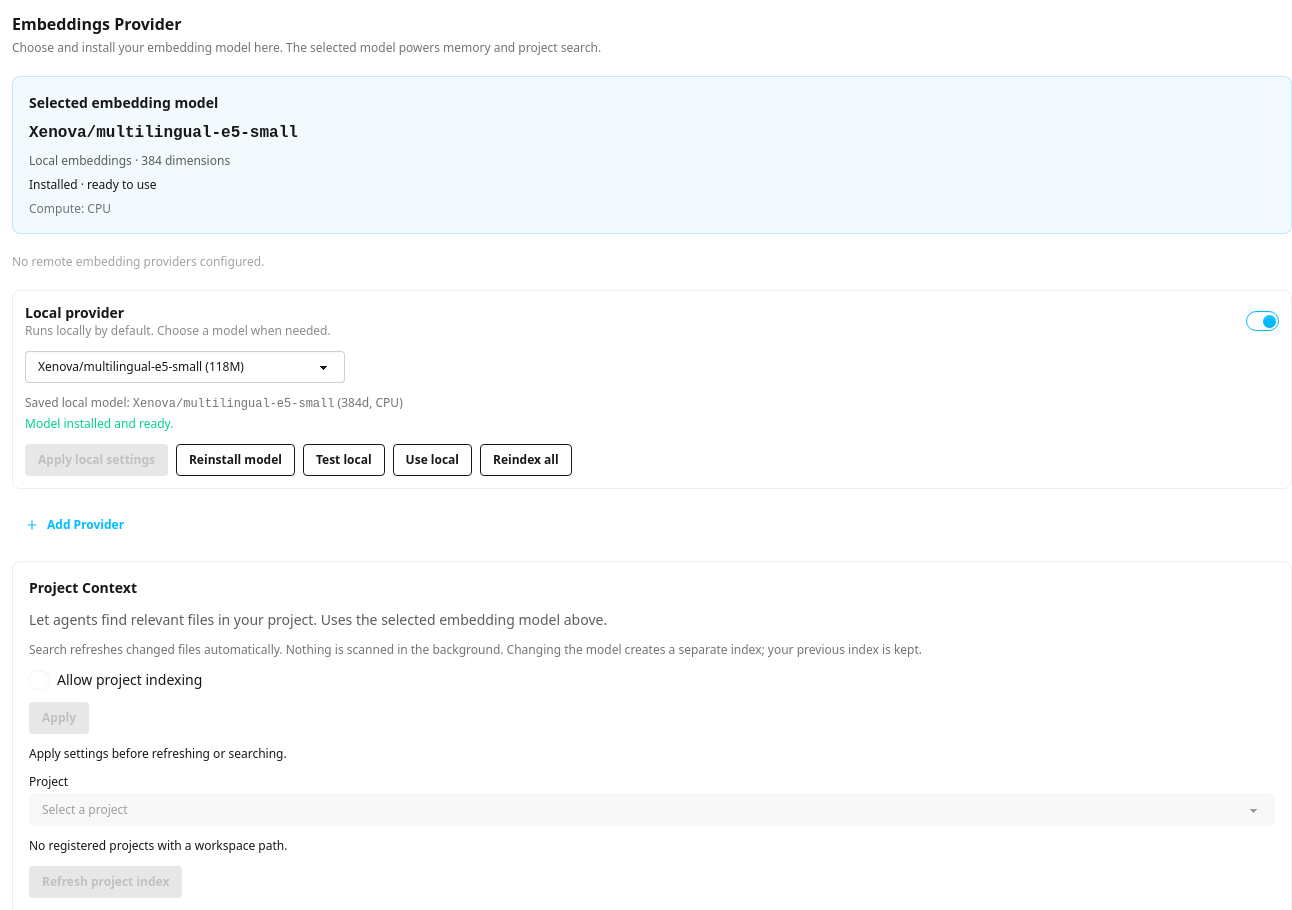
Test case: EmbeddingsPanel › can disable local embeddings
The image size is (1292, 910).
Click the checkbox with test id "embedding-local-enabled" at (1262, 321), box [1246,311,1279,331]
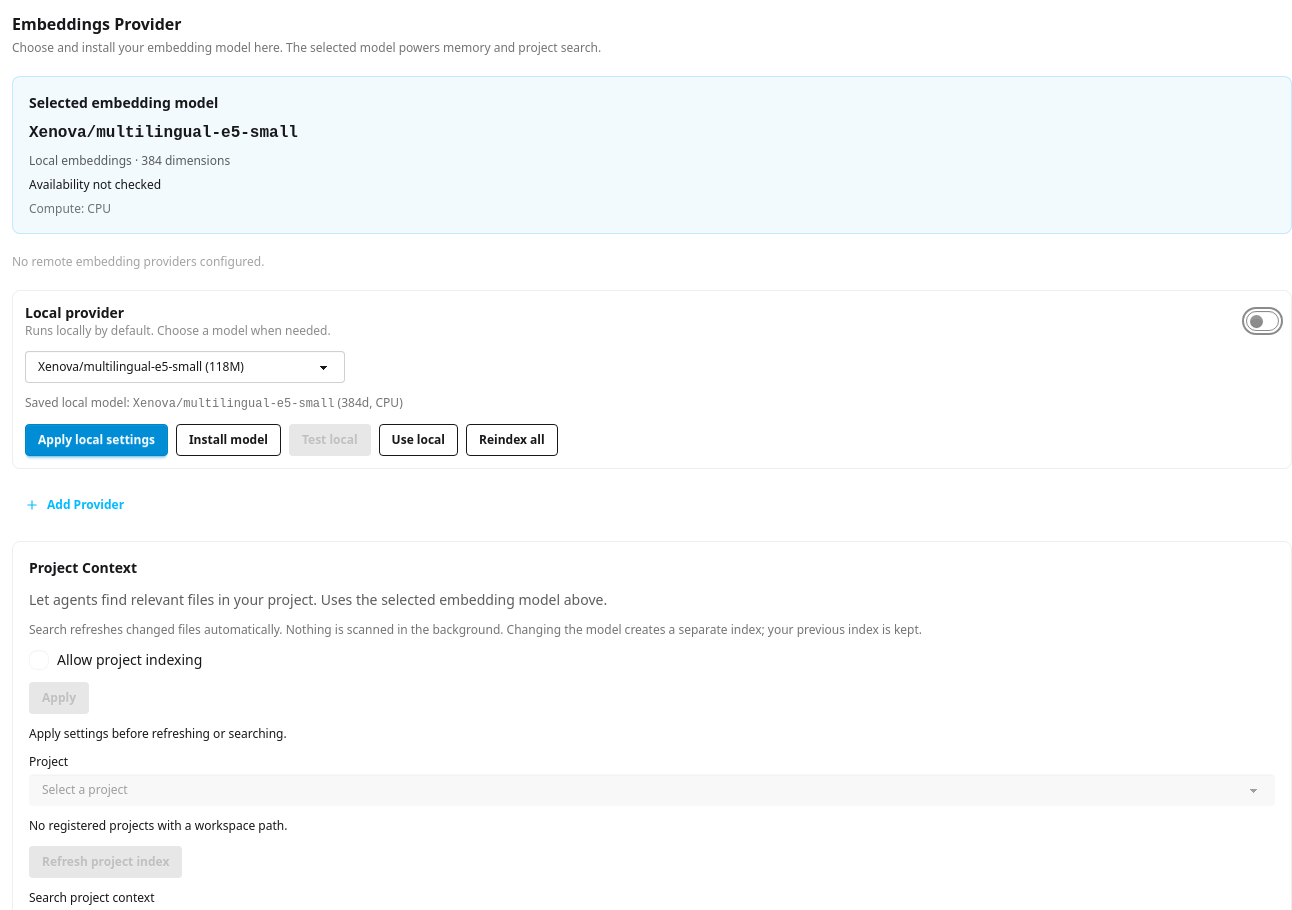
Click the button with test id "embedding-local-save" at (96, 440), box [25,424,168,456]
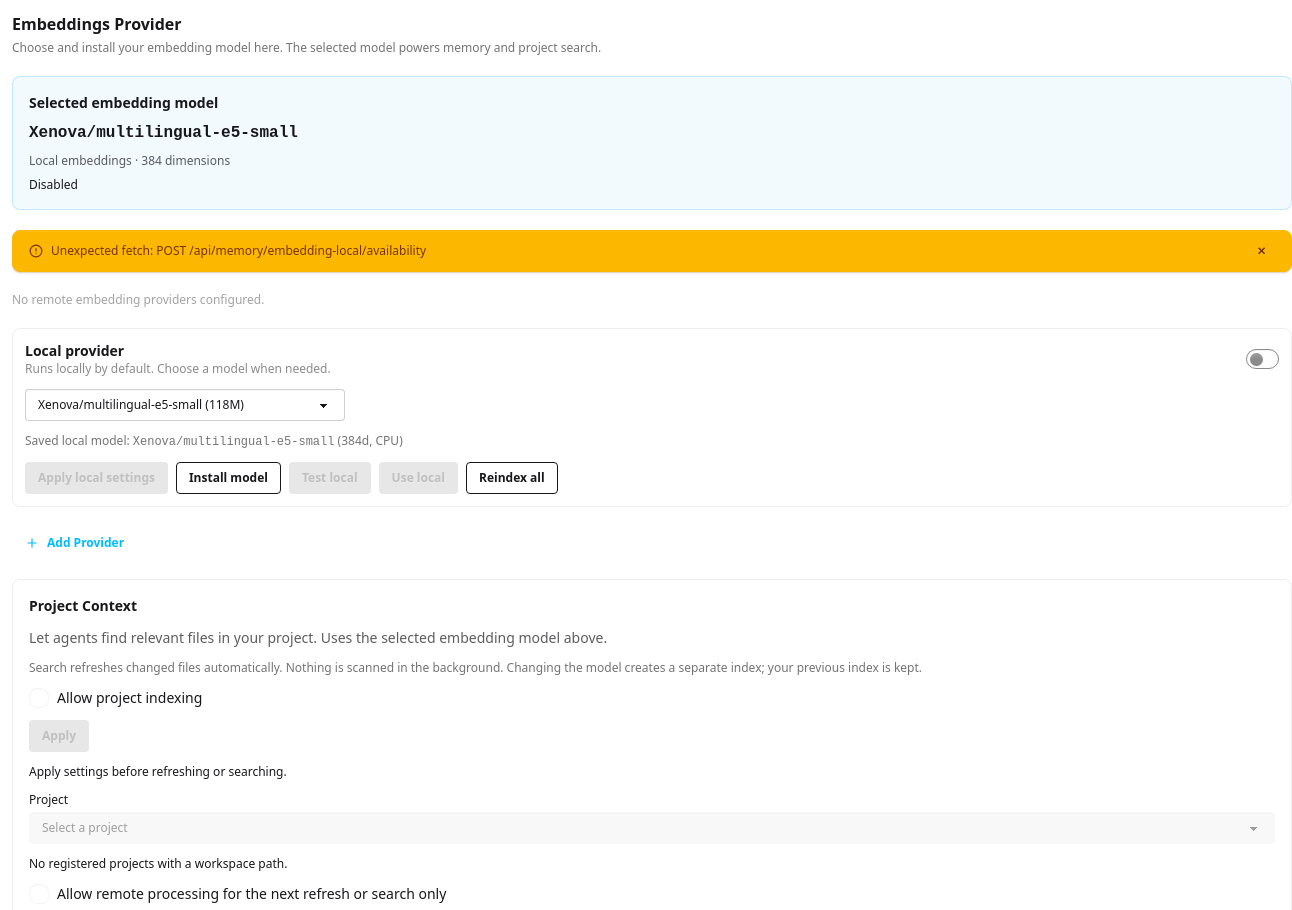
expect the message reads "Disabled": met, box [29,176,78,193]
